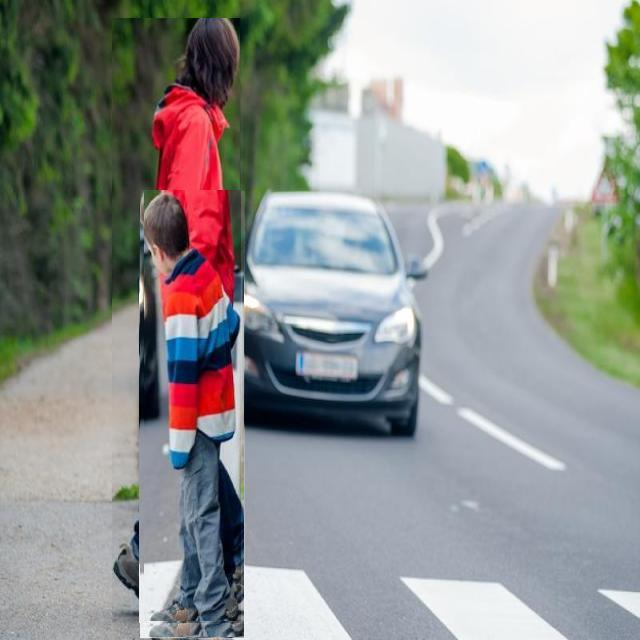without scooter: (113, 19, 242, 624), (141, 192, 246, 640)
